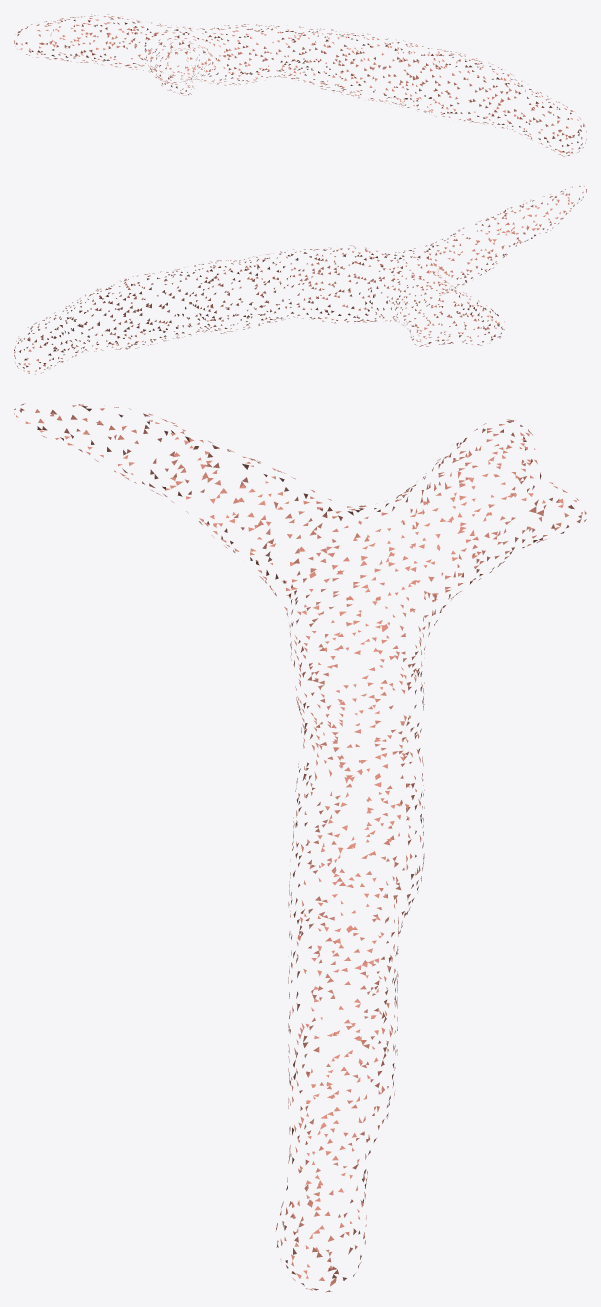
The model's file is morph_002.glb.
3 views of the same model, one above another, from view 1: azimuth 30°, elevation 25°; view 2: azimuth 150°, elevation 25°; view 3: azimuth 270°, elevation 25° (orthographic). The views are drawn at different scales.
Bounding box in the file's own units: 123 × 54.26 × 61.12.
